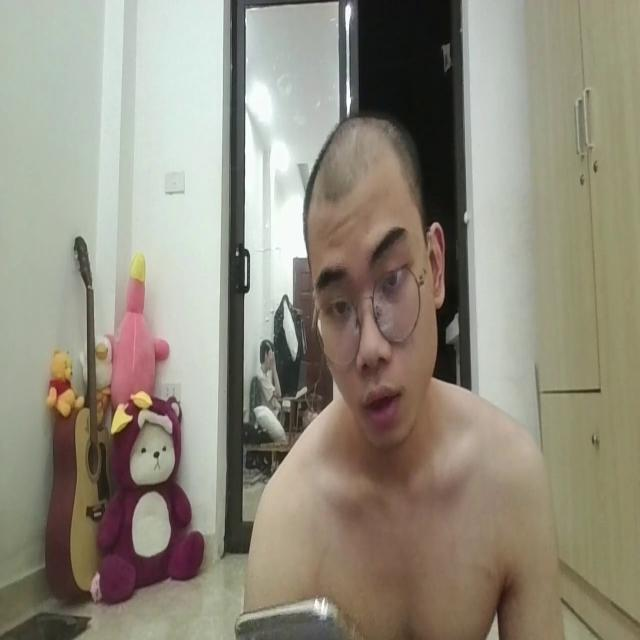extra_person: (259, 312, 310, 460)
phone: (229, 586, 358, 640)
student: (229, 103, 563, 640)
